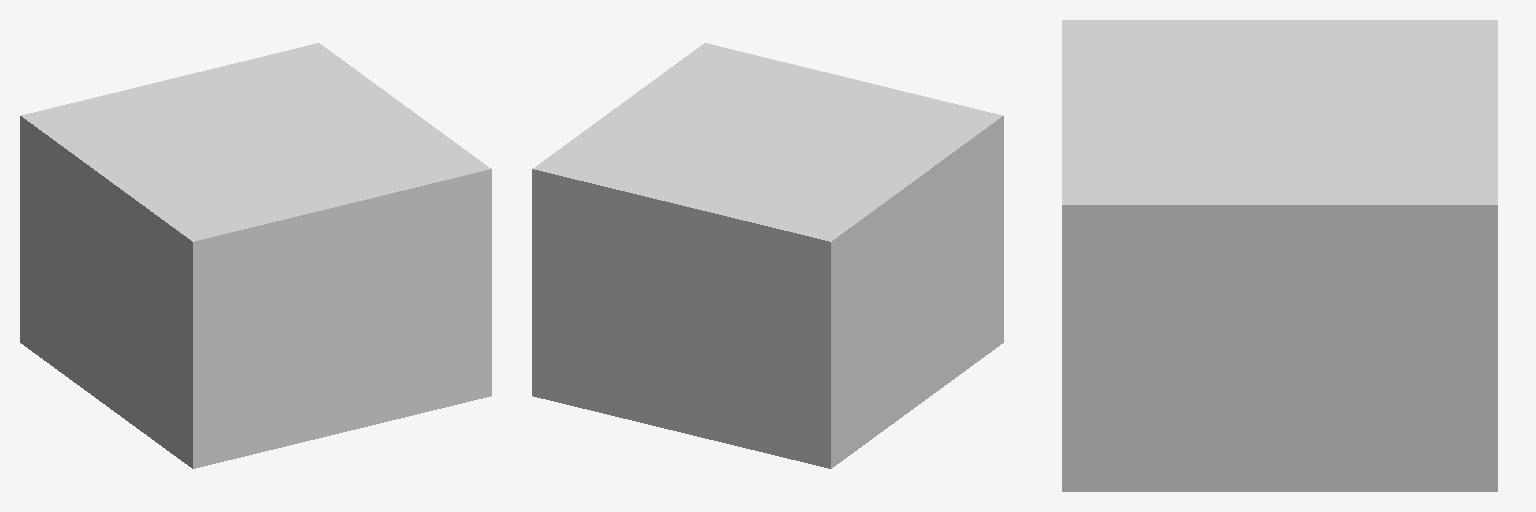
robot.urdf — table:
<?xml version="1.0"?>
<robot name="table">
	<link name="base">
	<inertial>
        	 <origin xyz="0 0 0" rpy="0 0 0"/>
        	 <mass value="10"/>
        	 <inertia ixx="0.000683333"  ixy="0"  ixz="0" iyy="0.000683333" iyz="0" izz="0.000683333" />
       </inertial>
		<visual>
			<origin xyz="0 0 0" rpy="0 0 0" />
			<geometry>
			<box size="0.011 0.011 0.008" />
			</geometry>
			 <material>
		<color rgba="0.9 0.9 0.9 1" />
	    </material>
		</visual>
	<collision>
            <origin xyz="0 0 0" rpy="0 0 0" />
            <geometry>
			<box size="0.011 0.011 0.008" />
            </geometry>
	    <material>
		<color rgba="0.9 0.9 0.9 1" />
	    </material>
        </collision>
	</link>
</robot>

--- Facts derived from the render (not from the file) ---
3 views of the same robot in one strip: view 1: azimuth 30°, elevation 25°; view 2: azimuth 150°, elevation 25°; view 3: azimuth 270°, elevation 25° (orthographic).
Robot: table — 1 links, 0 joints (none); root link base; default pose: all joints at 0.
Links seen in each view (by area): view 1: base; view 2: base; view 3: base.
Boxes of the visible links, x1=… form: base: x1=20, y1=43, x2=491, y2=468; base: x1=532, y1=43, x2=1003, y2=468; base: x1=1062, y1=20, x2=1497, y2=491.
Bounding box of the posed robot: 0.011 × 0.011 × 0.008 m (x, y, z).
Geometry: primitives only (box / cylinder / sphere), no mesh files.
